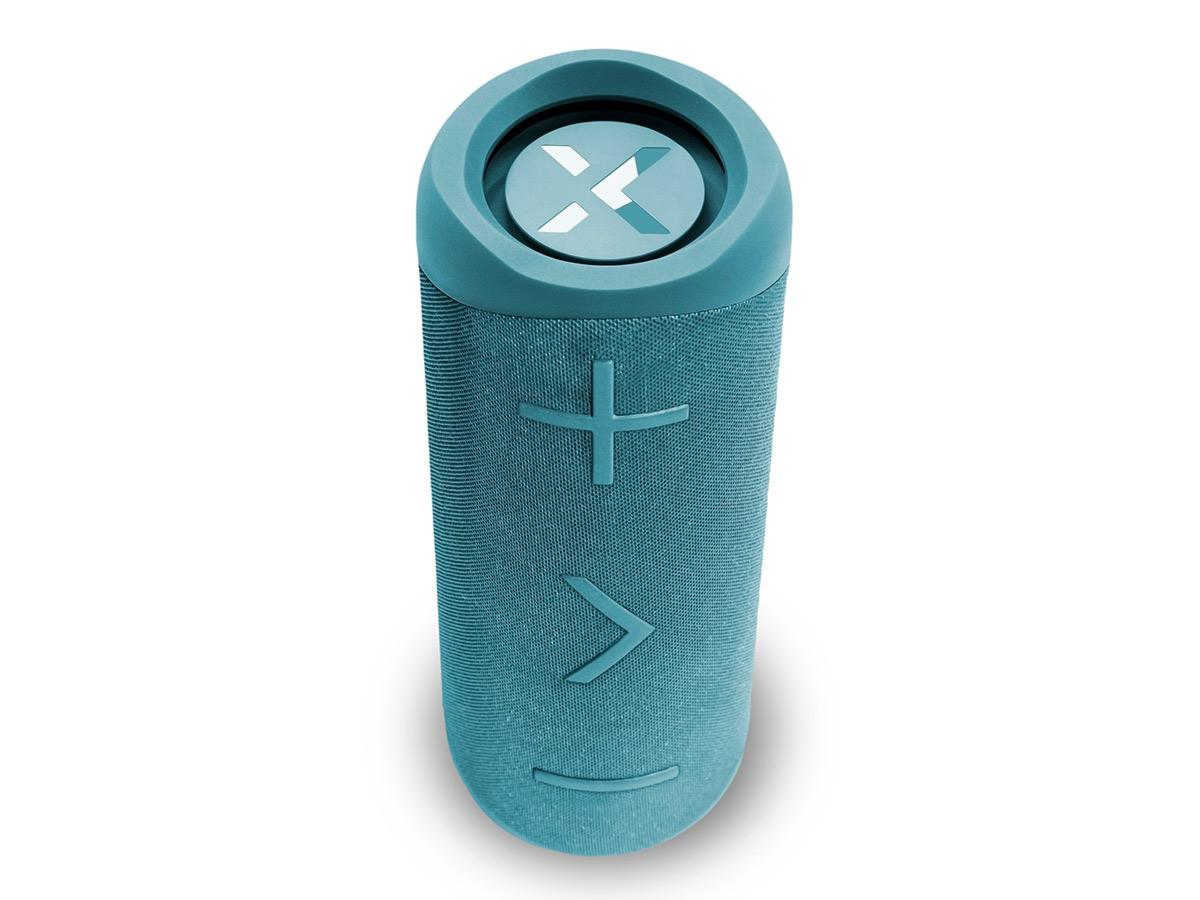speaker: (410, 44, 793, 853)
